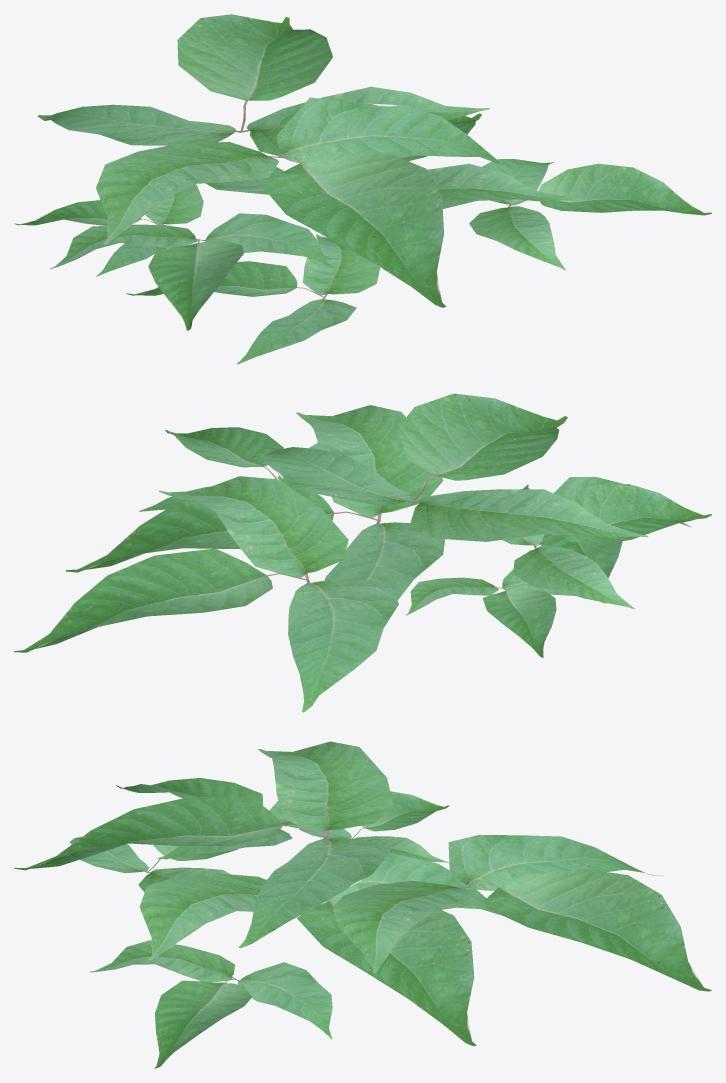
The model's file is PoisonIvy2.fbx.
3 views of the same model, one above another, from view 1: azimuth 30°, elevation 25°; view 2: azimuth 150°, elevation 25°; view 3: azimuth 270°, elevation 25° (orthographic). The views are drawn at different scales.
Visible parts, largest first — view 1: PoisonIvy2; view 2: PoisonIvy2; view 3: PoisonIvy2.
Boxes of the visible parts, x1,y1,x2,y2 form: PoisonIvy2: (14, 14, 711, 364); PoisonIvy2: (14, 393, 711, 712); PoisonIvy2: (14, 741, 711, 1068).
Size of the model in its own units: 36.42 by 6.87 by 40.11.
